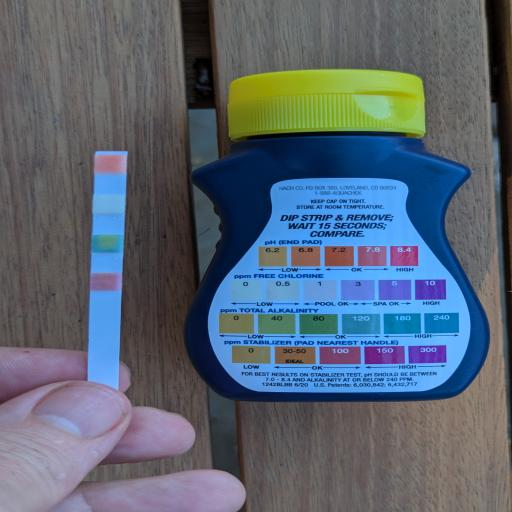label: (212, 167, 464, 392)
strip: (87, 151, 128, 390)
